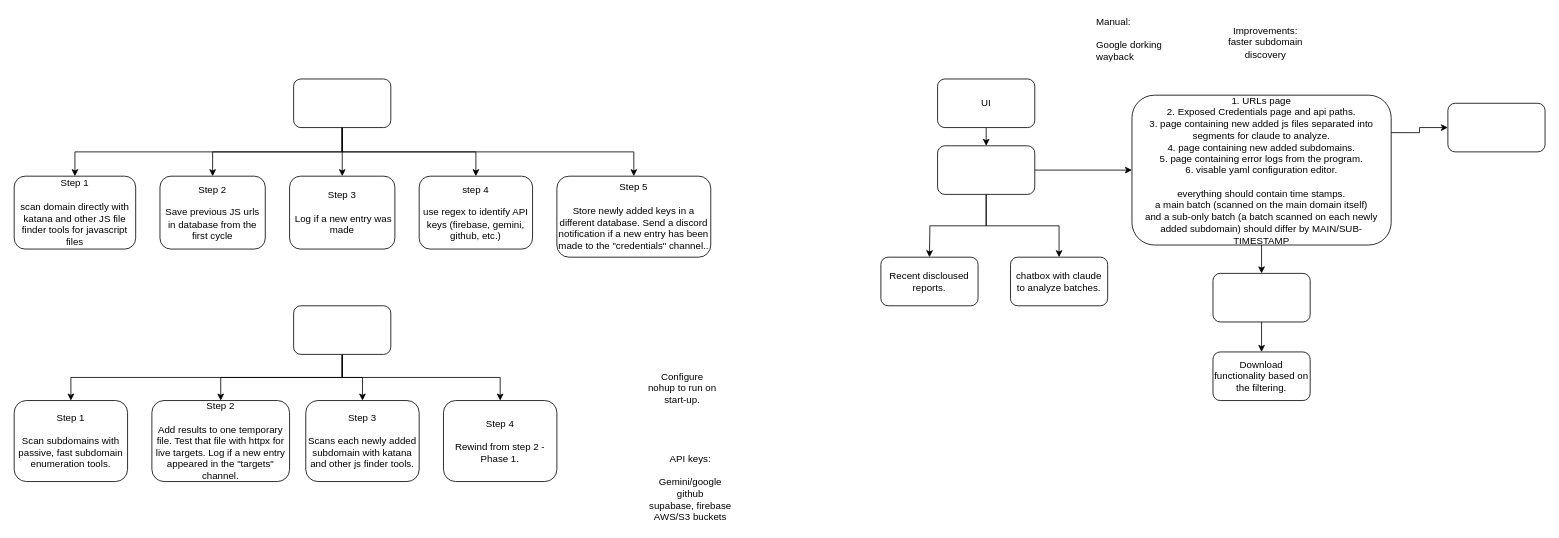
Image size: 1559x538. Some labels were removed from this diagram. The centre of each missing label's shape, as x and y in pixels:
A search bar in the urls using database syntax OR regex for filtering.: point 1261,297
Google dorking page: point 1496,127
Main page: point 986,169
Phase 1: point 342,103
Phase 2: point 342,329
